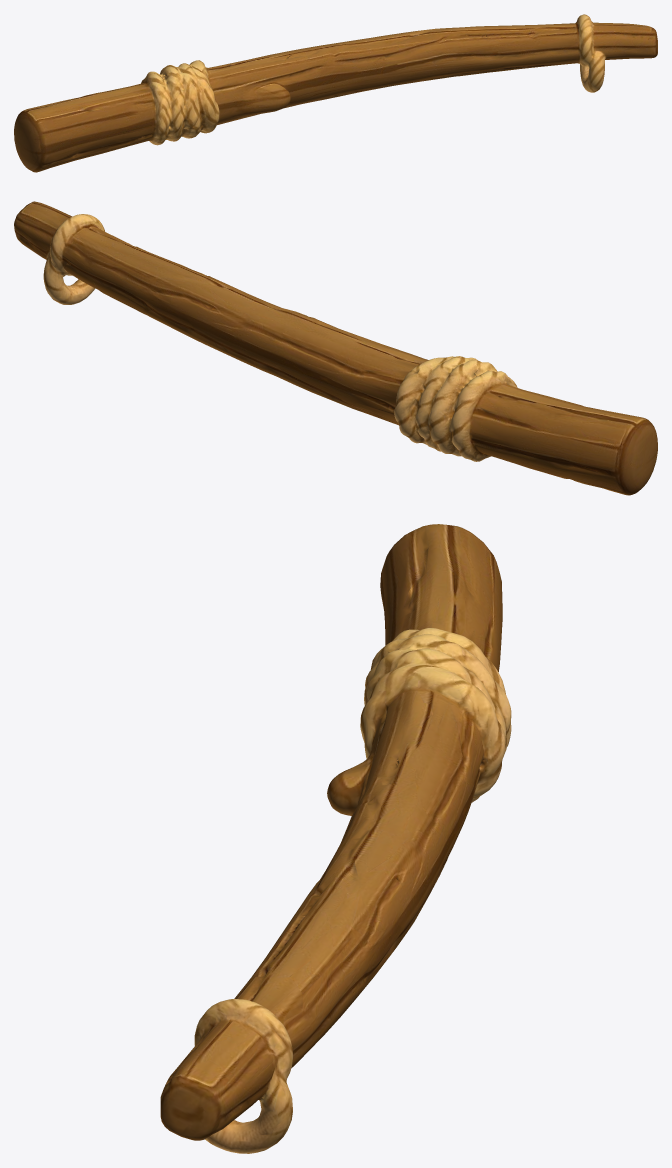
File: fishing_rod.glb
3 views of the same model, one above another, from view 1: azimuth 30°, elevation 25°; view 2: azimuth 150°, elevation 25°; view 3: azimuth 270°, elevation 25° (orthographic). The views are drawn at different scales.
Bounding box in the file's own units: 1.91 × 0.2471 × 0.5087.
1 material, 1 textured.
